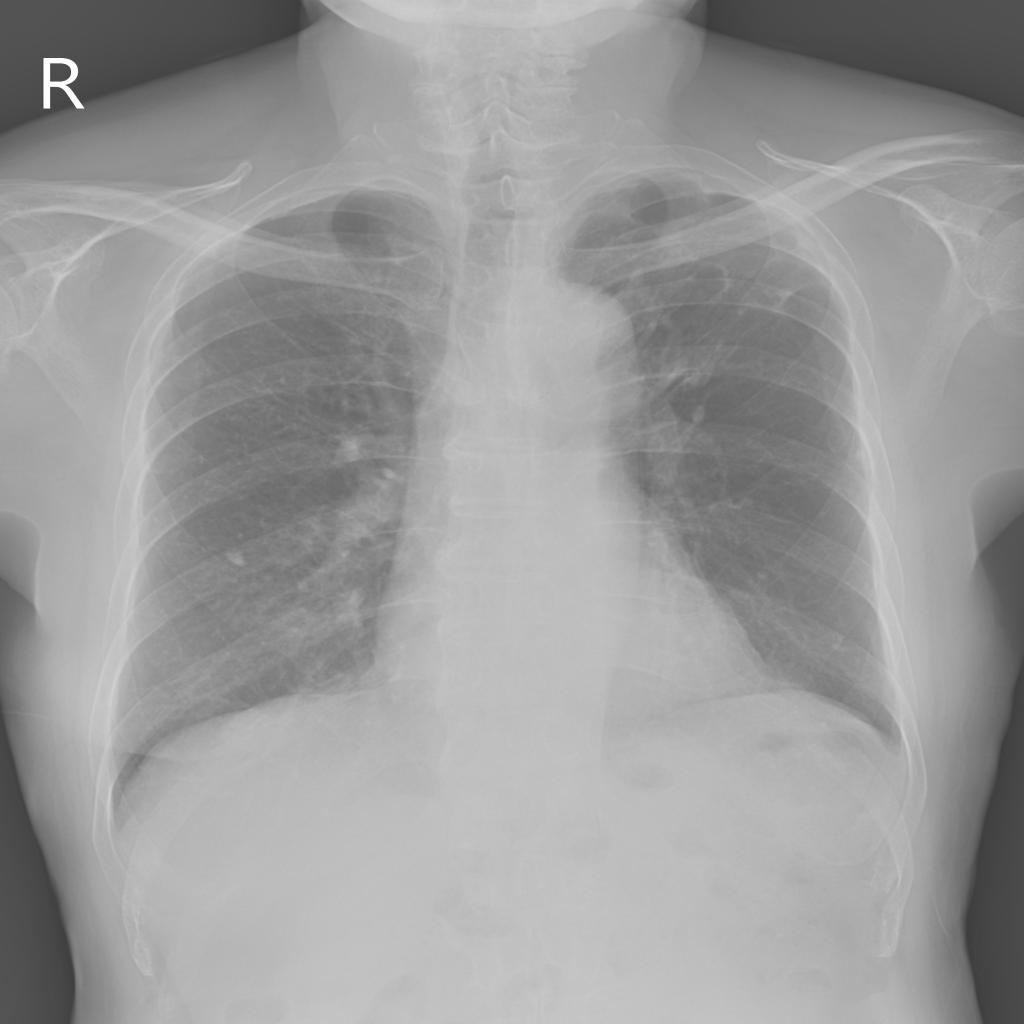Nodule: (224, 548, 248, 567)
